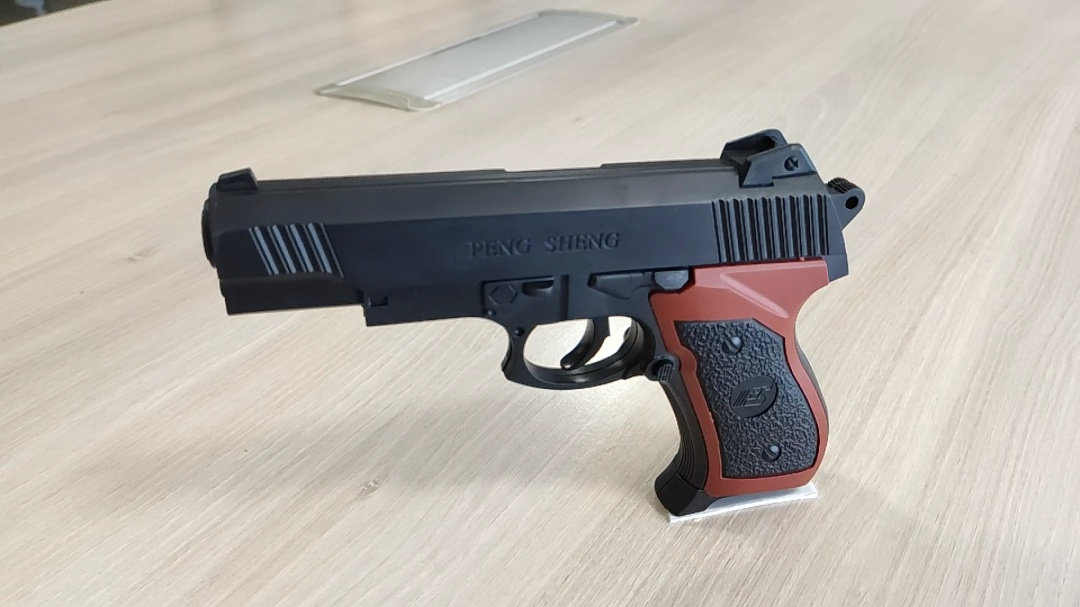gun: (199, 126, 868, 519)
